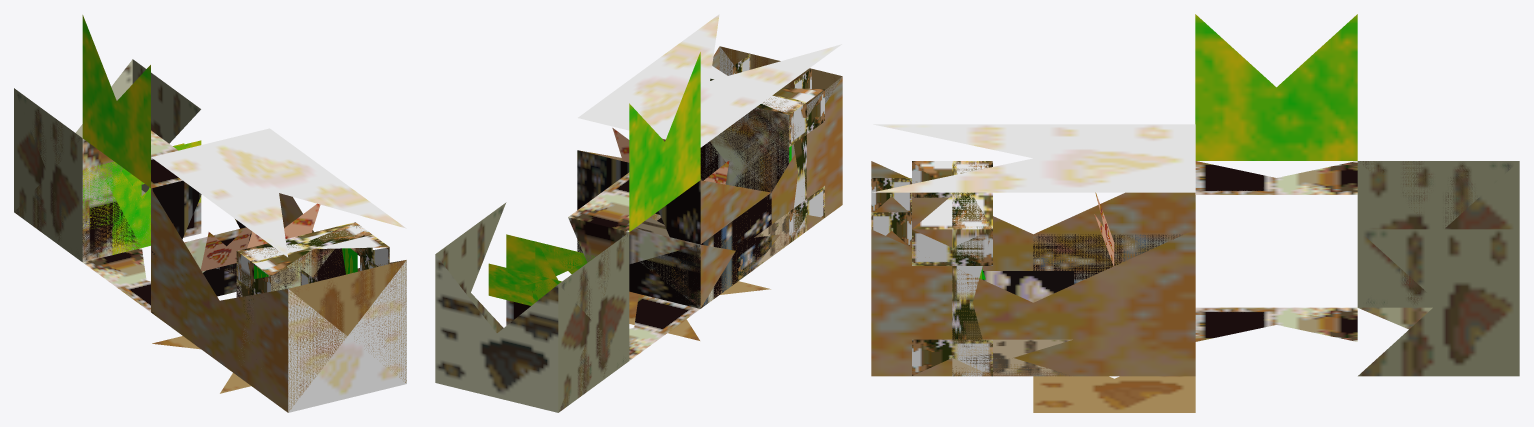
The model's file is town_geometry_type_01.obj.
The picture shows the model from 3 angles, left to right: view 1: azimuth 30°, elevation 25°; view 2: azimuth 150°, elevation 25°; view 3: azimuth 270°, elevation 25°; orthographic projection. The views are drawn at different scales.
Parts seen in each view (by area): view 1: face_list_010, face_list_030, face_list_034, face_list_000, face_list_014, face_list_055, face_list_012, face_list_002, face_list_051, face_list_003, face_list_027, face_list_066 (+10 smaller); view 2: face_list_010, face_list_030, face_list_031, face_list_034, face_list_007, face_list_011, face_list_012, face_list_015, face_list_003, face_list_051, face_list_022, face_list_027 (+13 smaller); view 3: face_list_010, face_list_025, face_list_034, face_list_030, face_list_051, face_list_069, face_list_007, face_list_016, face_list_029, face_list_013, face_list_028, face_list_024 (+2 smaller).
Boxes of the visible parts, x1,y1,x2,y2 form: face_list_010: (14,15,150,312); face_list_030: (14,88,288,412); face_list_034: (151,128,406,393); face_list_000: (288,260,406,412); face_list_014: (288,260,406,410); face_list_055: (289,260,406,382); face_list_012: (237,222,371,296); face_list_002: (112,162,150,254); face_list_051: (132,59,200,192); face_list_003: (82,197,252,274); face_list_027: (236,248,355,294); face_list_066: (201,203,320,271); face_list_010: (558,52,700,412); face_list_030: (558,76,842,412); face_list_031: (435,254,558,412); face_list_034: (578,14,841,340); face_list_007: (577,193,771,308); face_list_011: (700,102,806,243); face_list_012: (710,78,806,191); face_list_015: (488,234,593,305); face_list_003: (506,228,700,325); face_list_051: (435,202,506,332); face_list_022: (717,108,824,242); face_list_027: (700,69,824,173); face_list_010: (1195,14,1518,341); face_list_025: (871,229,1195,376); face_list_034: (872,124,1195,412); face_list_030: (871,161,1519,307); face_list_051: (1358,229,1519,376); face_list_069: (952,271,1073,376); face_list_007: (1033,234,1432,329); face_list_016: (1195,161,1357,194); face_list_029: (871,212,992,265); face_list_013: (952,229,992,376); face_list_028: (912,161,992,229); face_list_024: (912,339,992,375).
Bounding box in the file's own units: 69 × 144 × 256.
Materials: 30 (30 with a texture image).
